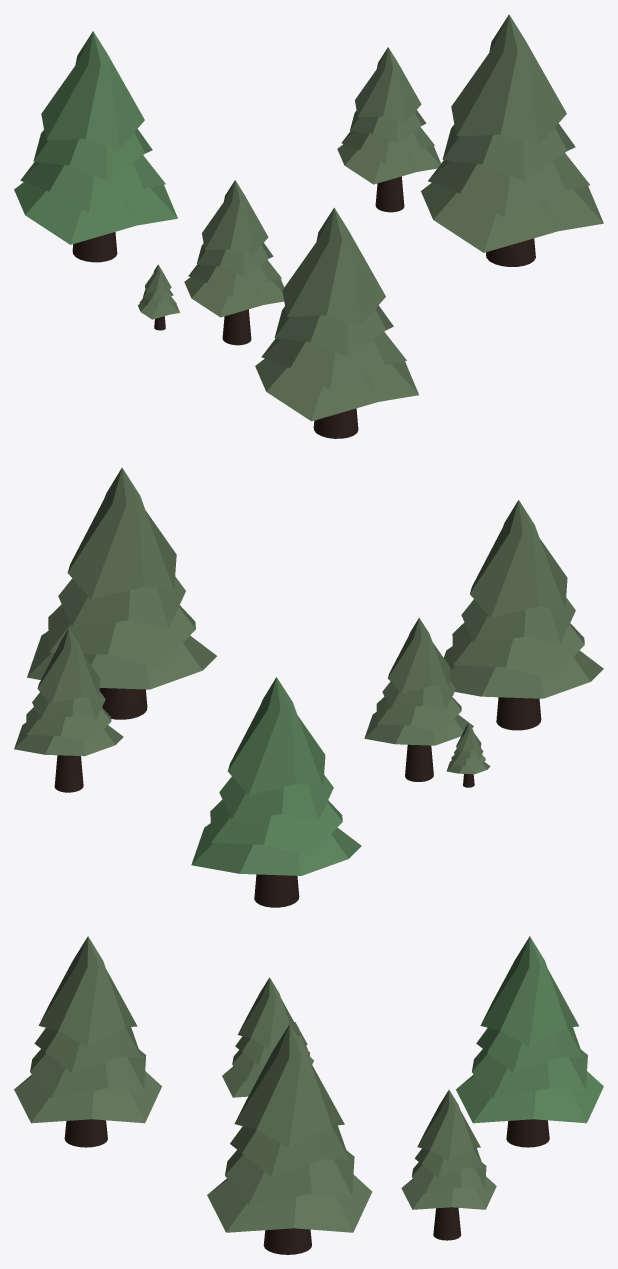
File: Bomen.fbx
3 renders of one model, top to bottom at view 1: azimuth 30°, elevation 25°; view 2: azimuth 150°, elevation 25°; view 3: azimuth 270°, elevation 25°, orthographic. The views are drawn at different scales.
Visible parts, largest first — view 1: pCylinder10, pCylinder5, pCylinder8, pCylinder15, pCylinder12, pCylinder16, pCylinder9, pCylinder6, pCylinder11, pCylinder13, pCylinder14; view 2: pCylinder10, pCylinder8, pCylinder5, pCylinder15, pCylinder12, pCylinder6, pCylinder9, pCylinder11, pCylinder16, pCylinder14, pCylinder13; view 3: pCylinder10, pCylinder5, pCylinder8, pCylinder15, pCylinder12, pCylinder11, pCylinder9, pCylinder6, pCylinder14.
Boxes of the visible parts, x1,y1,x2,y2 form: pCylinder10: (421, 14, 603, 252); pCylinder5: (255, 207, 418, 421); pCylinder8: (14, 31, 177, 244); pCylinder15: (337, 47, 440, 184); pCylinder12: (184, 180, 284, 317); pCylinder16: (138, 264, 179, 319); pCylinder9: (72, 232, 117, 262); pCylinder6: (313, 408, 358, 438); pCylinder11: (486, 238, 535, 266); pCylinder13: (222, 309, 251, 345); pCylinder14: (375, 176, 404, 212); pCylinder10: (27, 467, 216, 689); pCylinder8: (191, 677, 361, 875); pCylinder5: (444, 500, 603, 698); pCylinder15: (14, 628, 123, 756); pCylinder12: (364, 618, 473, 745); pCylinder6: (496, 697, 541, 730); pCylinder9: (254, 874, 299, 907); pCylinder11: (99, 688, 147, 719); pCylinder16: (446, 723, 490, 774); pCylinder14: (54, 755, 83, 792); pCylinder13: (405, 744, 433, 781); pCylinder10: (207, 1024, 372, 1232); pCylinder5: (14, 936, 161, 1123); pCylinder8: (456, 936, 603, 1123); pCylinder15: (401, 1089, 496, 1209); pCylinder12: (222, 977, 300, 1097); pCylinder11: (263, 1228, 311, 1254); pCylinder9: (506, 1119, 549, 1147); pCylinder6: (64, 1119, 107, 1147); pCylinder14: (433, 1207, 461, 1240).
Size of the model in its own units: 10.61 by 6.03 by 13.32.
